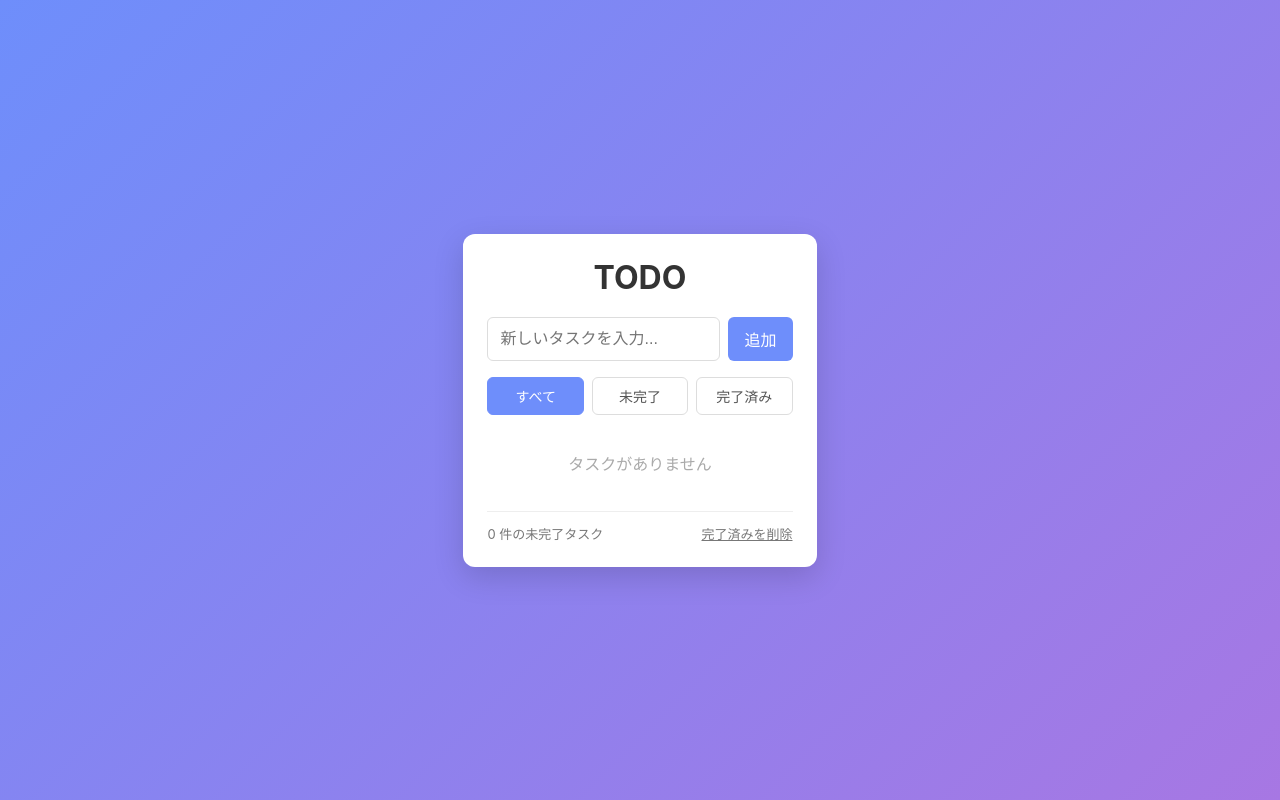
Test case: TODOアプリ › チェックボックスをクリックすると完了状態になり、未完了件数が減る
The image size is (1280, 800).
Type "部屋の掃除" into the field with placeholder "新しいタスクを入力...".
click(604, 338); type("部屋の掃除")  # box [488, 316, 720, 360]
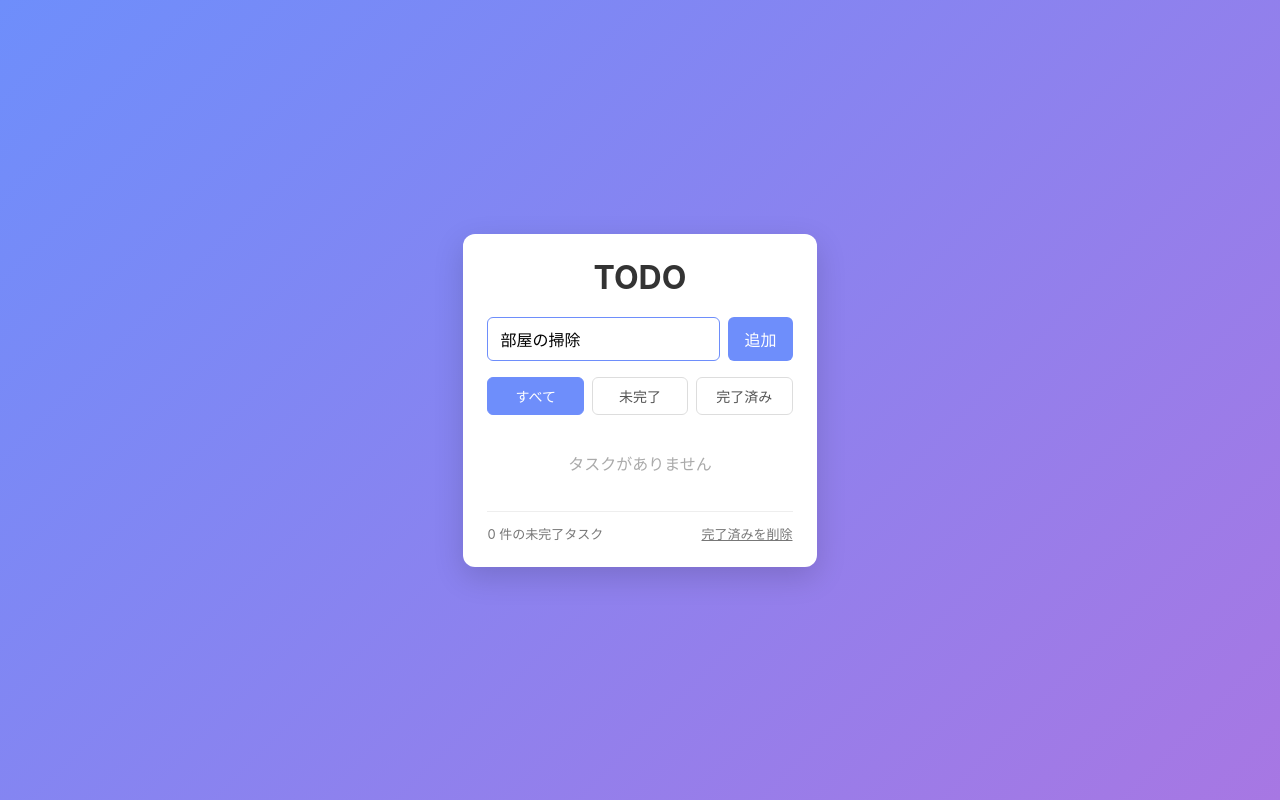
Click the button "追加".
click(760, 338)  # box [728, 316, 792, 360]
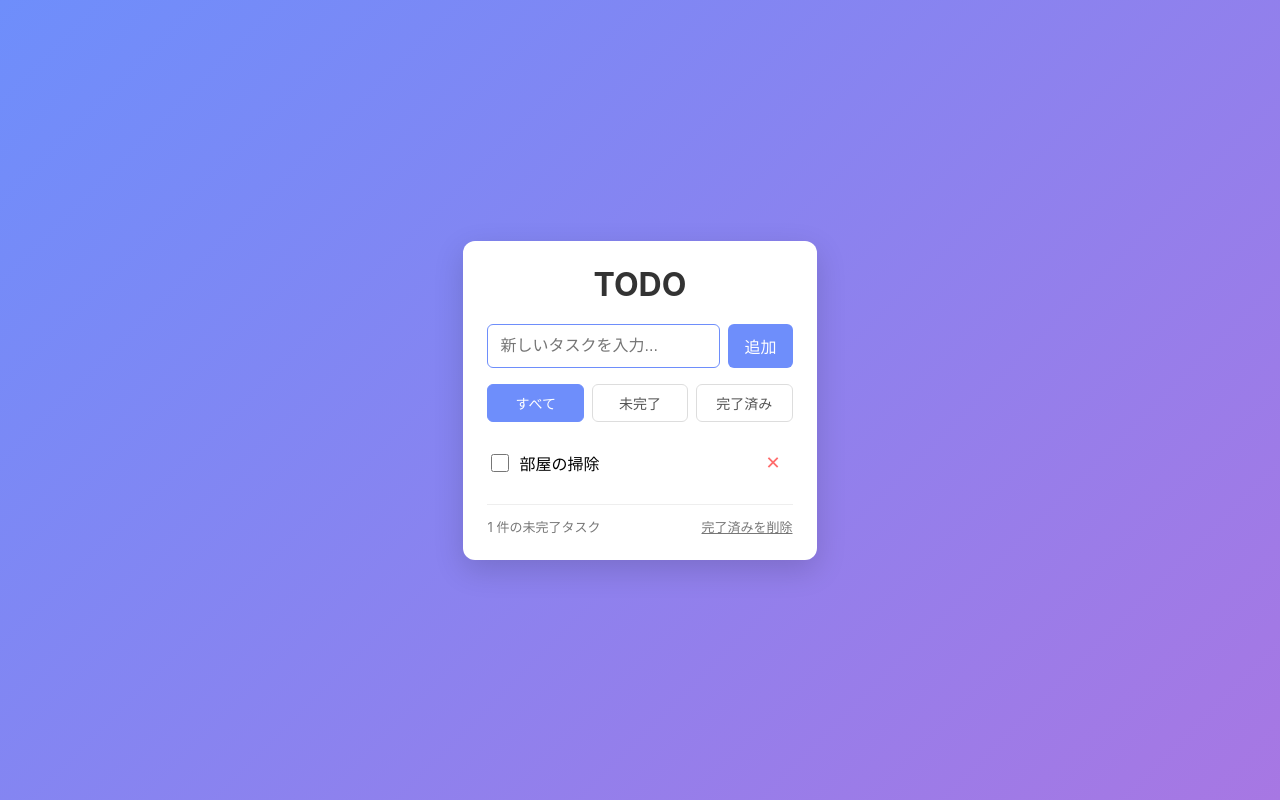
Check: the checkbox is not checked
Check: the text "1 件の未完了タスク" is shown, box [488, 516, 600, 536]
Click the checkbox.
click(500, 462)  # box [492, 454, 510, 472]
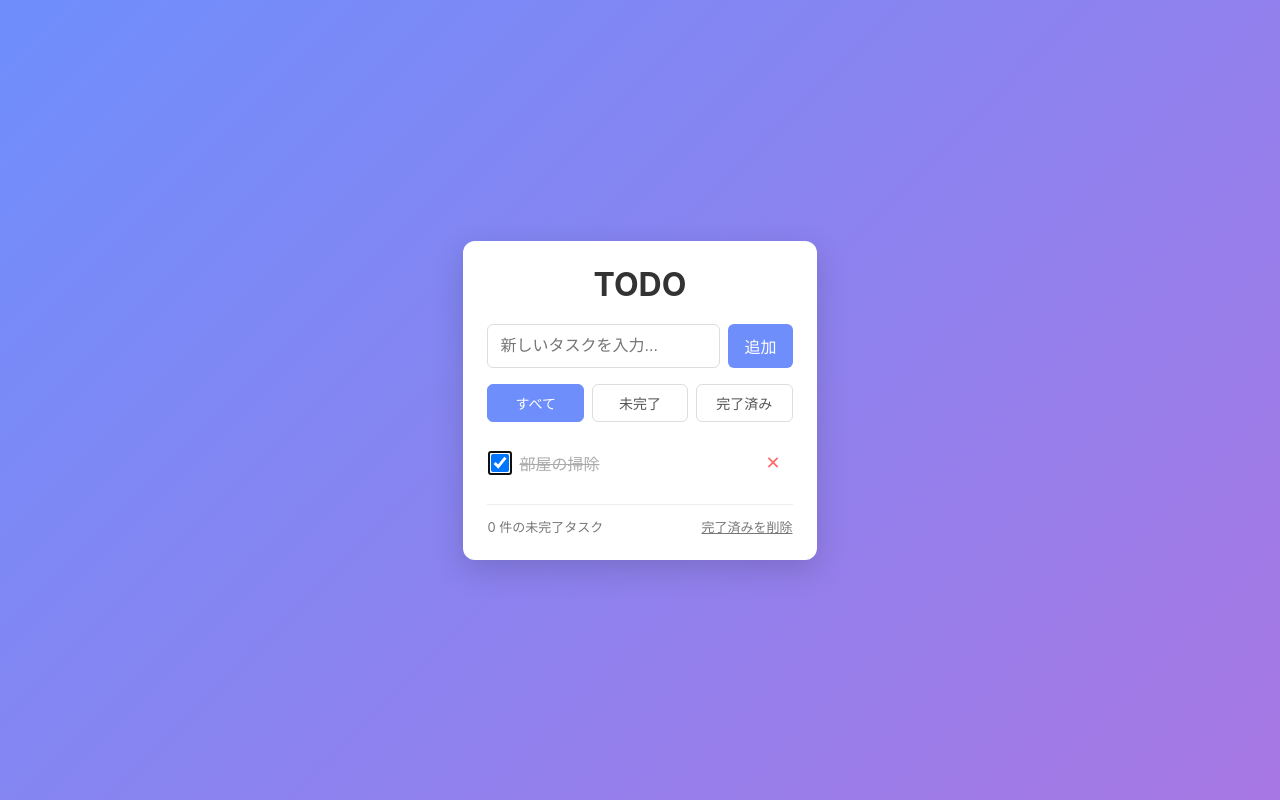
Check: the checkbox is checked, box [492, 454, 510, 472]
Check: the text "0 件の未完了タスク" is shown, box [488, 516, 603, 536]
